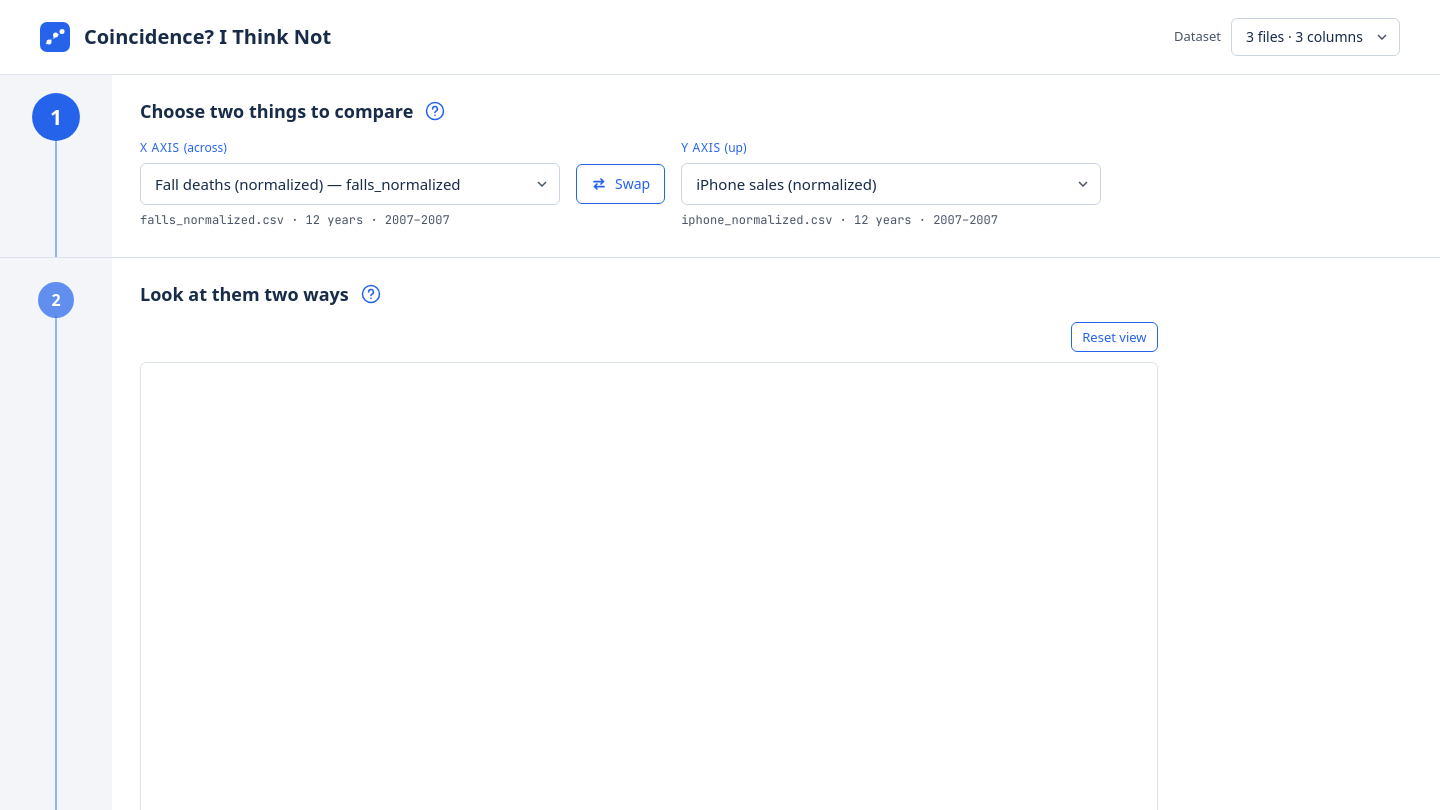
step 1: choose two things to compare › Swap exchanges the two axes
Click the button "Swap". click: (621, 184)
box: top-left (576, 164), bottom-right (665, 204)
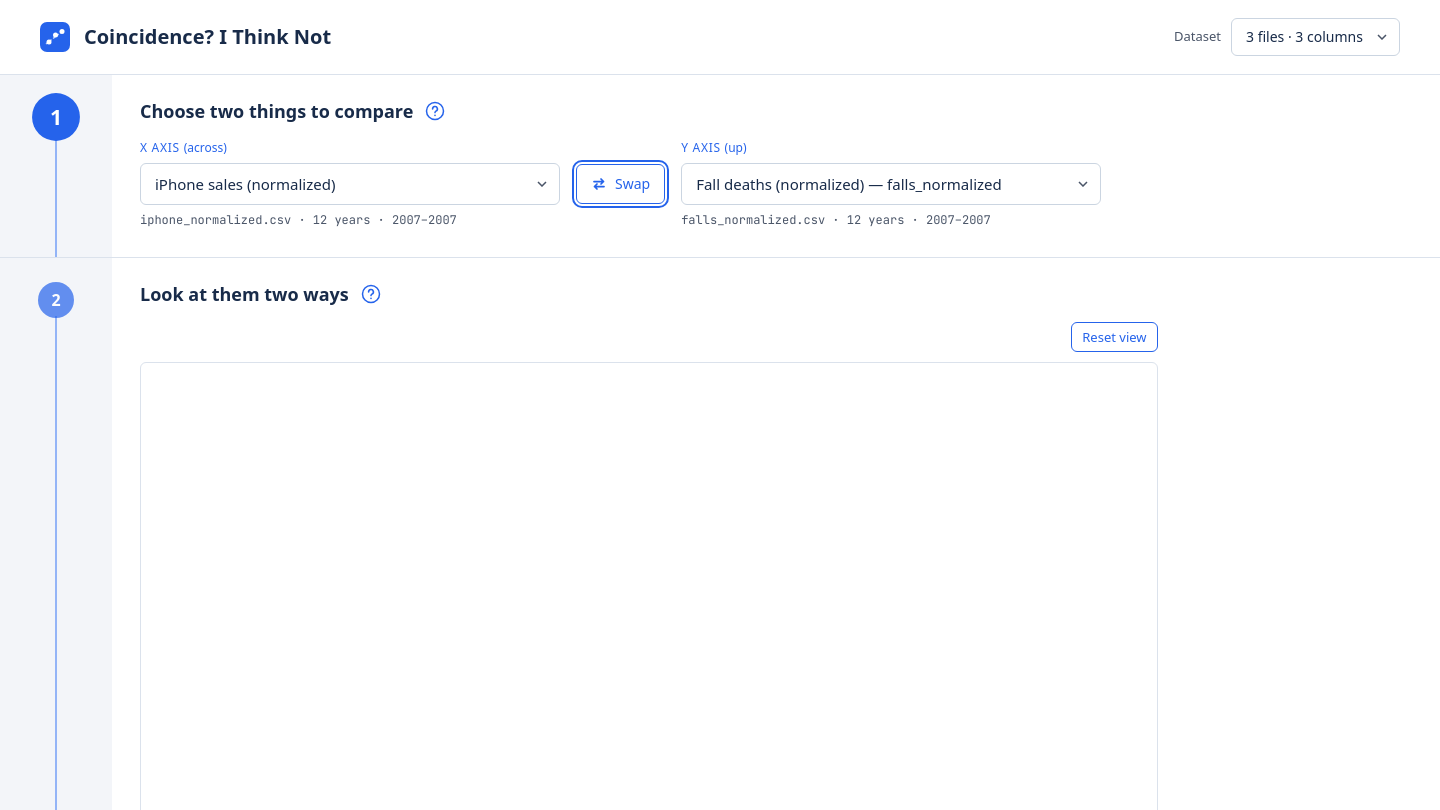
Expected: the dropdown labelled "X axis (across)" shows "iPhone sales (normalized)", top-left (140, 163), bottom-right (560, 205)
Expected: the dropdown labelled "Y axis (up)" shows "Fall deaths (normalized) — falls_normalized", top-left (681, 163), bottom-right (1101, 205)
